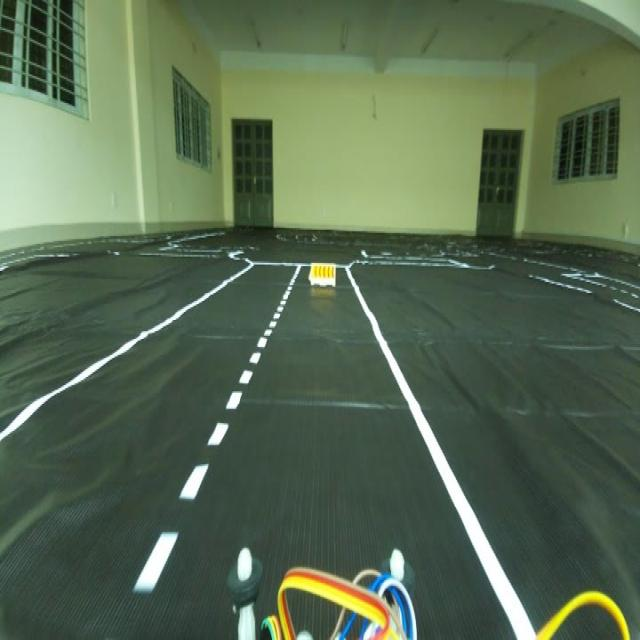roadblock: (307, 250, 343, 308)
